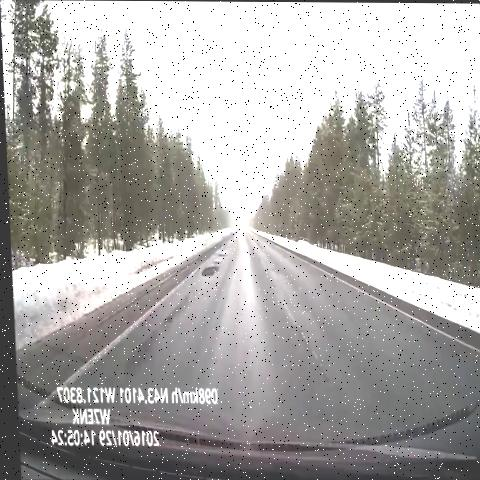pothole: (193, 265, 219, 282), (213, 247, 227, 260), (209, 258, 222, 267)
